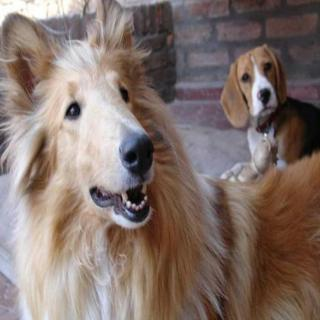dog: (0, 7, 187, 250)
nose: (117, 130, 156, 180)
